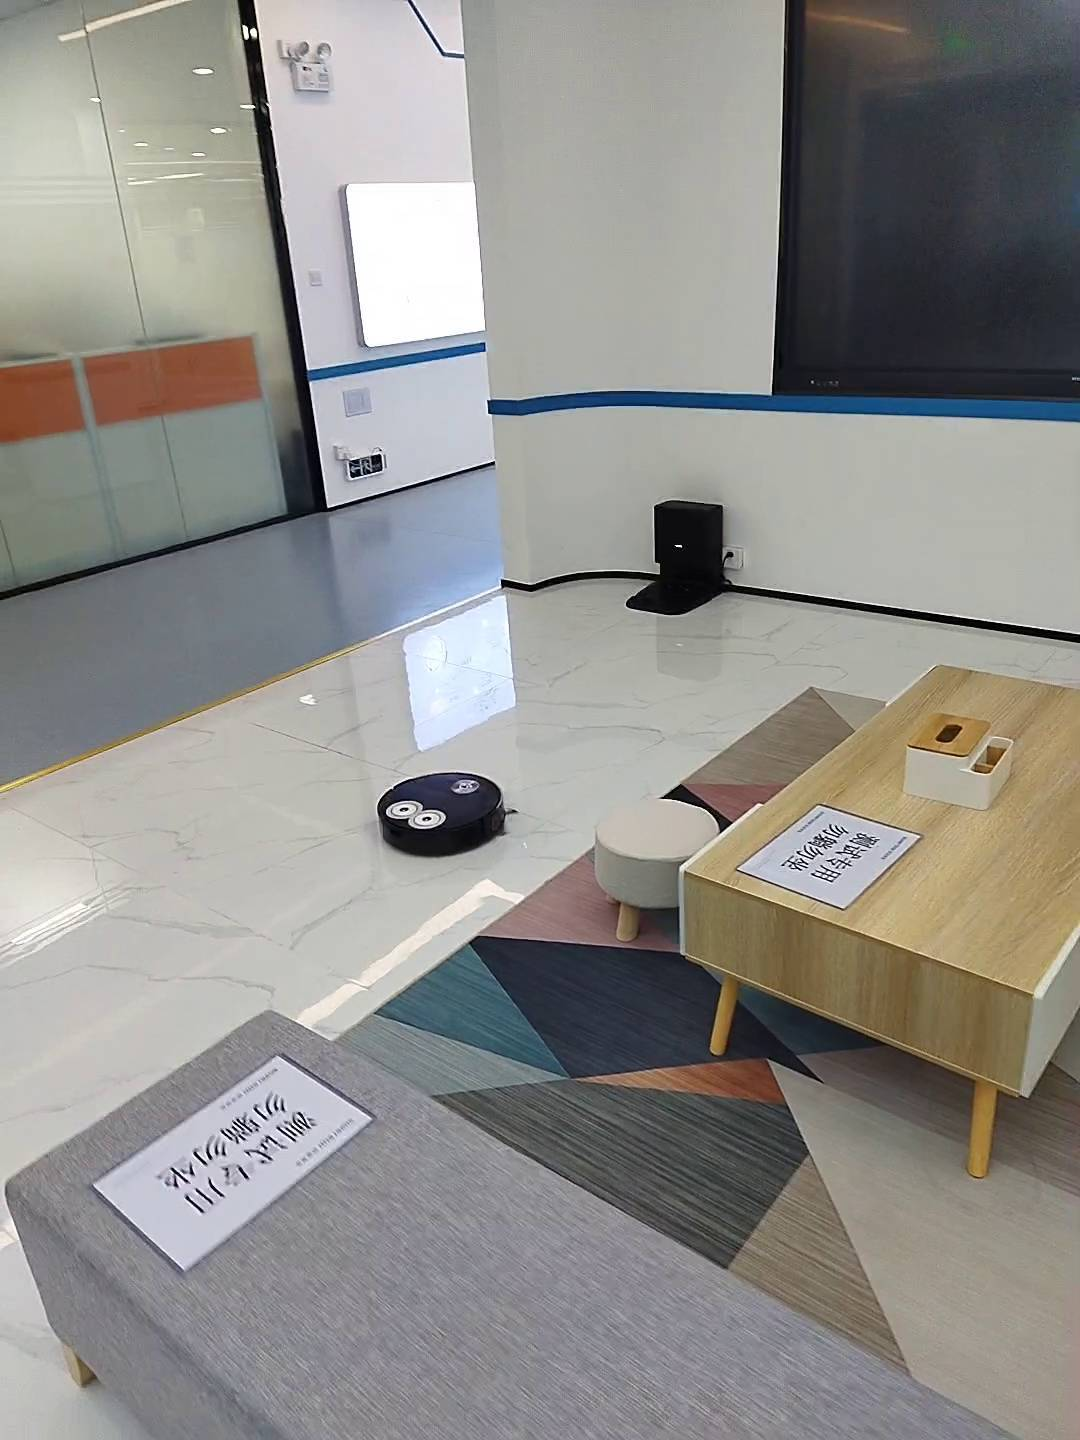dust collecting barrel: (626, 500, 728, 615)
